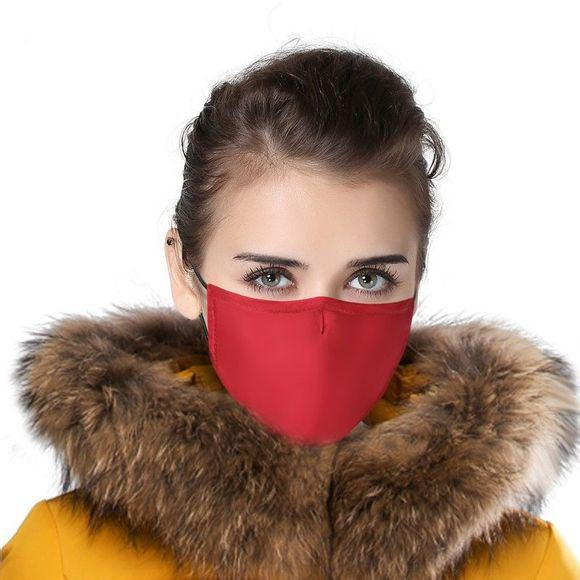OK: (204, 216, 420, 432)
